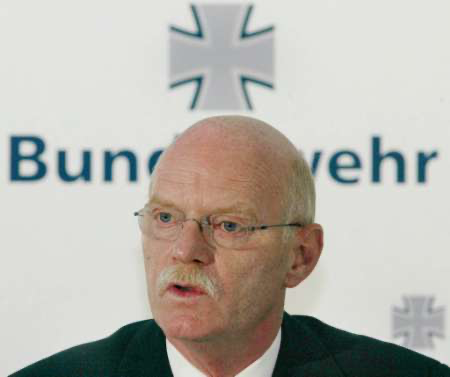Face: (138, 144, 286, 338)
